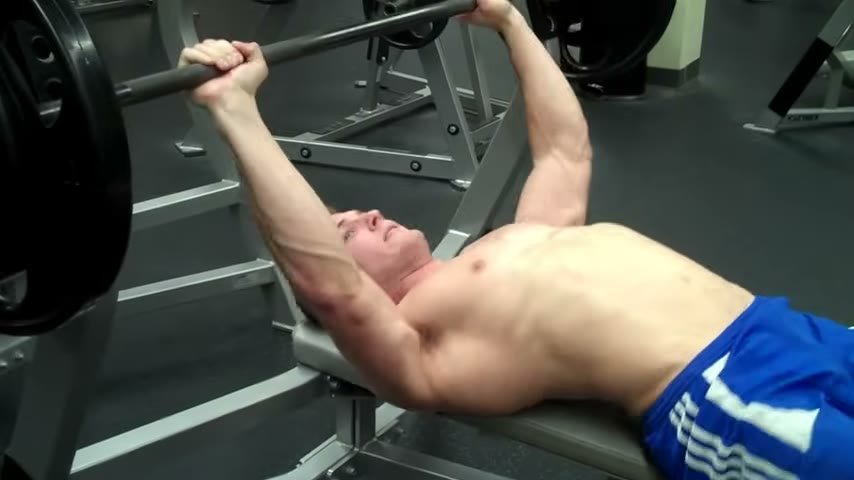barbell_plate_side: (16, 3, 148, 473)
